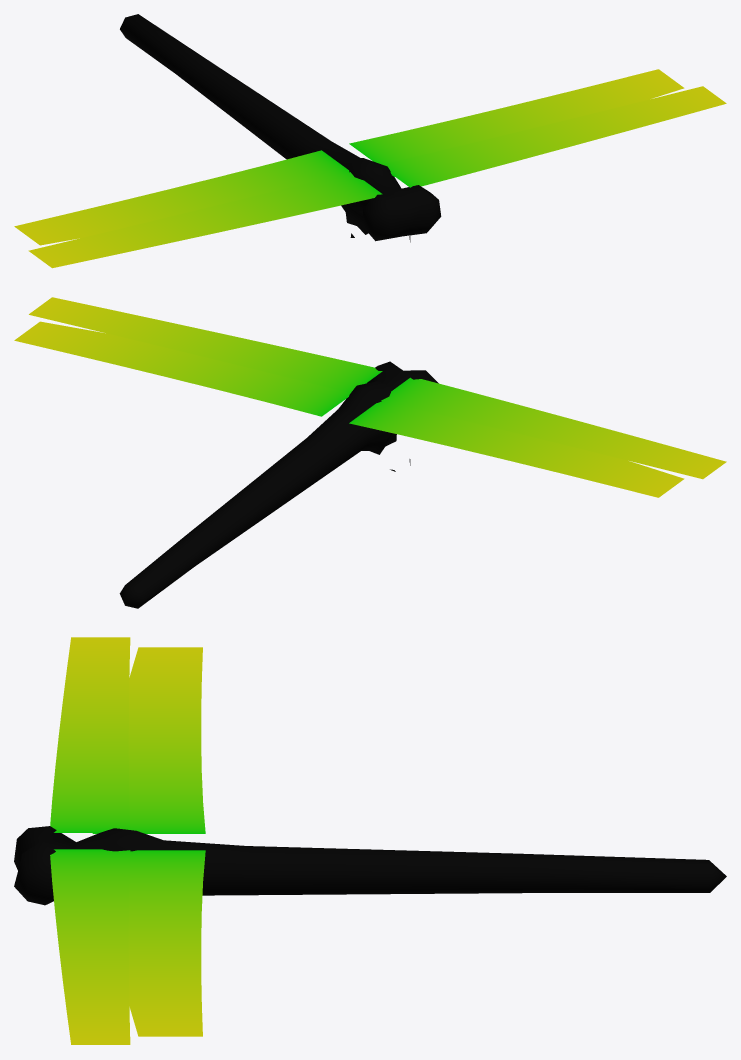
Rendered from dragonfly.glb.
3 views of the same model, one above another, from view 1: azimuth 30°, elevation 25°; view 2: azimuth 150°, elevation 25°; view 3: azimuth 270°, elevation 25° (orthographic). The views are drawn at different scales.
Parts seen in each view (by area): view 1: lod0; view 2: lod0; view 3: lod0.
Part boxes in pixels (bbox=[...]): lod0: bbox=[14, 14, 726, 268]; lod0: bbox=[14, 297, 726, 608]; lod0: bbox=[14, 637, 726, 1044].
Size of what is drawn, in the model's own units: 0.0896 by 0.0102 by 0.0662.
